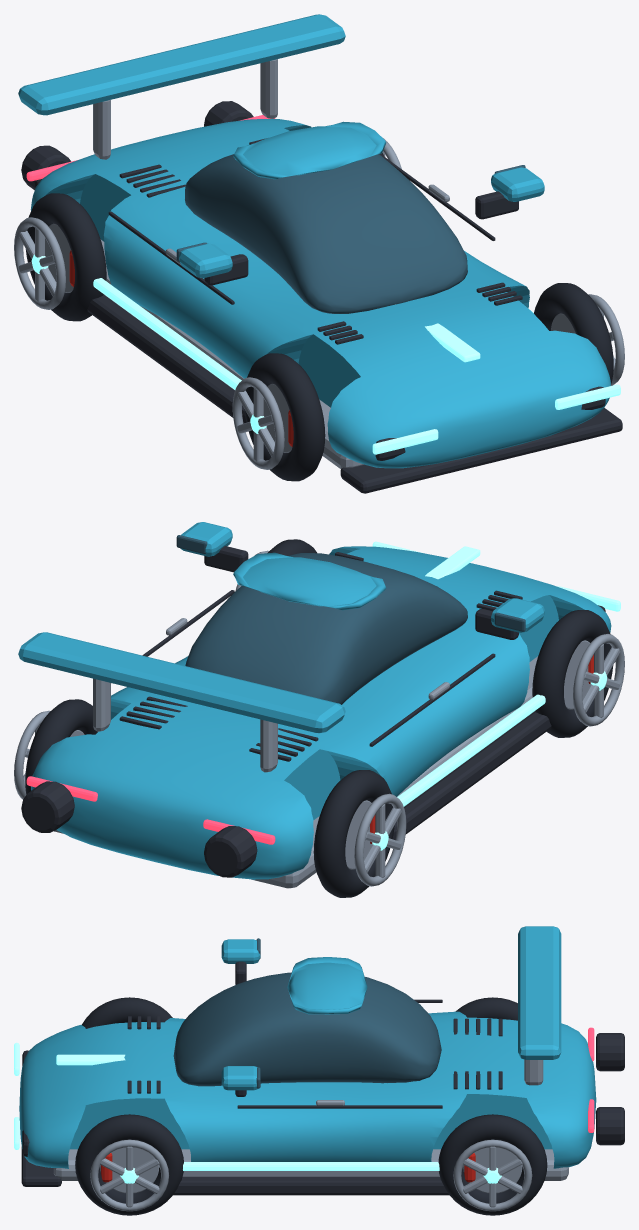
File: Viper.fbx
The picture shows the model from 3 angles, top to bottom: view 1: azimuth 30°, elevation 25°; view 2: azimuth 150°, elevation 25°; view 3: azimuth 270°, elevation 25°; orthographic projection. The views are drawn at different scales.
Visible parts, largest first — view 1: Body_Viper, Glass_Cockpit, Body_Spoiler, Body_Roof, Wheel_LFront, Wheel_LRear, Carbon_FrontSplitter, Carbon_SideSkirt, Wheel_RFront, Trim_Sill, WheelRim_LFront, WheelRim_LRear (+15 smaller); view 2: Body_Viper, Glass_Cockpit, Body_Spoiler, Body_Roof, Wheel_LRear, Wheel_LFront, Carbon_SideSkirt, Wheel_RRear, Trim_Sill, Exhaust_Nozzle.001, Exhaust_Nozzle, WheelRim_LFront (+14 smaller); view 3: Body_Viper, Glass_Cockpit, Body_Spoiler, Carbon_SideSkirt.001, Wheel_RRear, Wheel_RFront, Body_Roof, Body_Undertray, Trim_Sill.001, Wheel_LFront, WheelRim_RFront, WheelRim_RRear (+11 smaller).
Part boxes in pixels (box(x1,y1,x2,y2)): Body_Viper: box(30, 119, 610, 468); Glass_Cockpit: box(185, 154, 467, 313); Body_Spoiler: box(18, 14, 345, 115); Body_Roof: box(233, 121, 386, 179); Wheel_LFront: box(244, 353, 325, 481); Wheel_LRear: box(25, 193, 106, 321); Carbon_FrontSplitter: box(340, 407, 622, 493); Carbon_SideSkirt: box(87, 295, 246, 423); Wheel_RFront: box(534, 283, 613, 384); Trim_Sill: box(93, 278, 241, 389); WheelRim_LFront: box(232, 377, 284, 469); WheelRim_LRear: box(14, 217, 65, 309); Body_Viper: box(31, 546, 611, 879); Glass_Cockpit: box(185, 553, 467, 704); Body_Spoiler: box(18, 632, 345, 733); Body_Roof: box(233, 552, 386, 610); Wheel_LRear: box(313, 770, 394, 897); Wheel_LFront: box(532, 610, 613, 737); Carbon_SideSkirt: box(392, 711, 551, 840); Wheel_RRear: box(25, 699, 97, 794); Trim_Sill: box(397, 694, 545, 806); Exhaust_Nozzle.001: box(21, 781, 74, 832); Exhaust_Nozzle: box(204, 826, 257, 877); WheelRim_LFront: box(573, 634, 624, 726); Body_Viper: box(19, 1011, 596, 1168); Glass_Cockpit: box(173, 972, 441, 1086); Body_Spoiler: box(518, 926, 561, 1059); Carbon_SideSkirt.001: box(173, 1177, 449, 1195); Wheel_RRear: box(438, 1114, 547, 1215); Wheel_RFront: box(75, 1114, 183, 1215); Body_Roof: box(287, 957, 367, 1014); Body_Undertray: box(53, 1149, 568, 1180); Trim_Sill.001: box(183, 1162, 439, 1170); Wheel_LFront: box(82, 997, 172, 1028); WheelRim_RFront: box(90, 1139, 168, 1211); WheelRim_RRear: box(453, 1139, 532, 1211).
Size of the model in its own units: 209 by 122 by 381.
